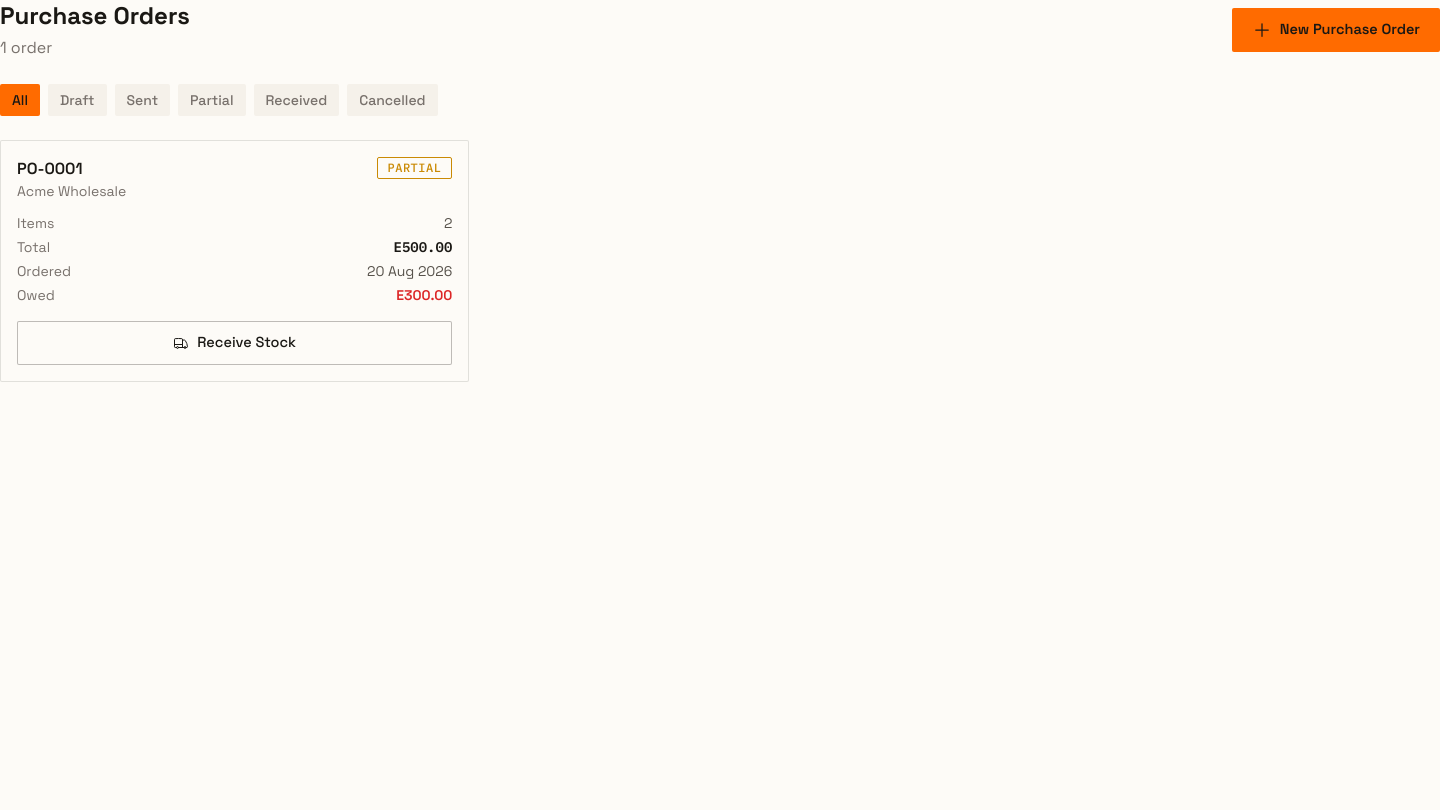
Test case: PurchaseOrders — accounts payable › shows amount received, amount paid and balance due once the PO is received
Click the heading "PO-0001" at (50, 168), box x1=17 y1=158 x2=83 y2=179
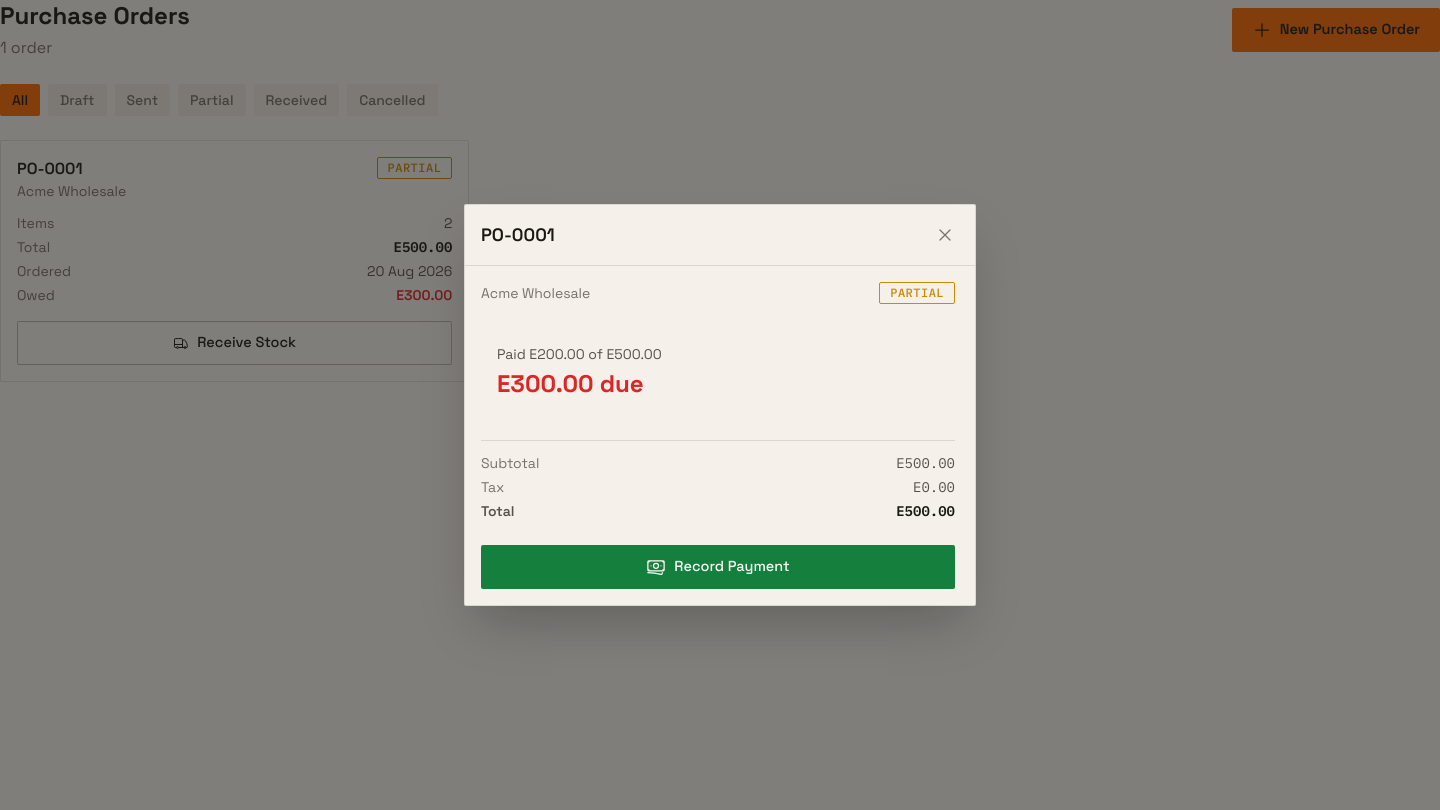
Now the text "Paid E200.00 of E500.00" is shown once, box x1=497 y1=345 x2=662 y2=363
Now the text "Paid E200.00 of E500.00" is shown, box x1=497 y1=345 x2=662 y2=363
Now the text "E300.00 due" is shown, box x1=497 y1=368 x2=644 y2=399
